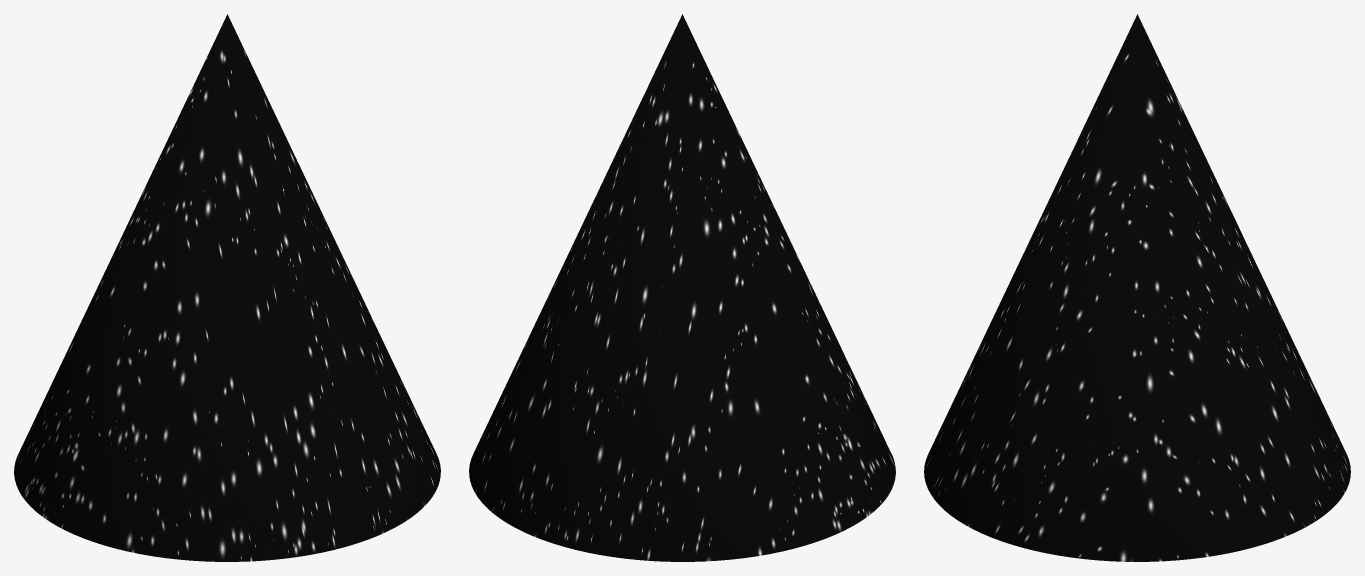
The model's file is planarcone.fbx.
3 renders of one model, left to right at view 1: azimuth 30°, elevation 25°; view 2: azimuth 150°, elevation 25°; view 3: azimuth 270°, elevation 25°, orthographic.
Parts seen in each view (by area): view 1: pCone1; view 2: pCone1; view 3: pCone1.
Part boxes in pixels (x1,y1,x2,y2): pCone1: (14, 14, 440, 561); pCone1: (469, 14, 895, 561); pCone1: (924, 14, 1350, 561).
Size of the model in its own units: 14.4 by 17.04 by 14.4.
Materials: 1 (1 with a texture image).
